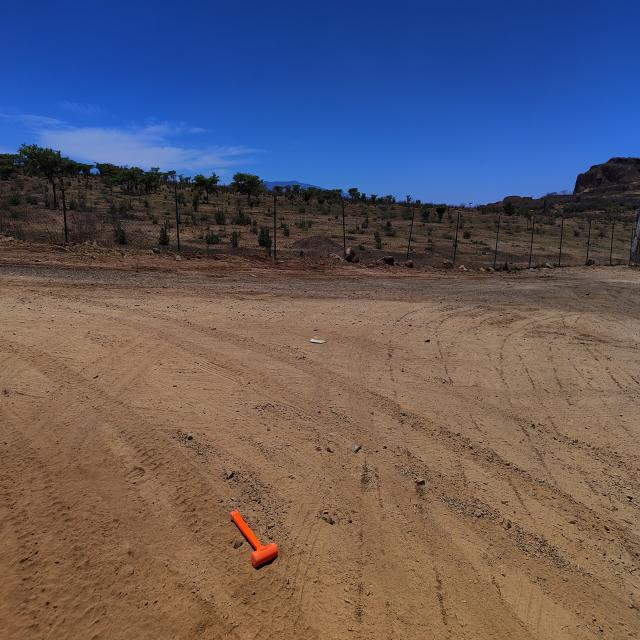Orange_hammer: (230, 508, 278, 568)
